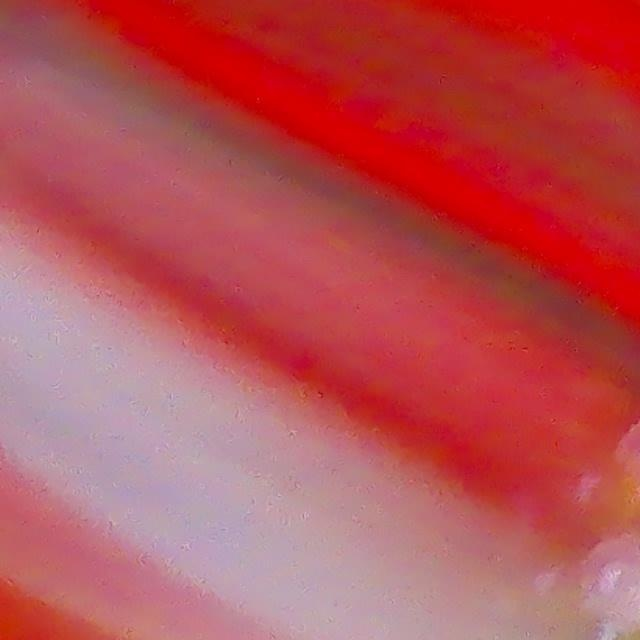SeaGrape: (579, 534, 640, 626)
